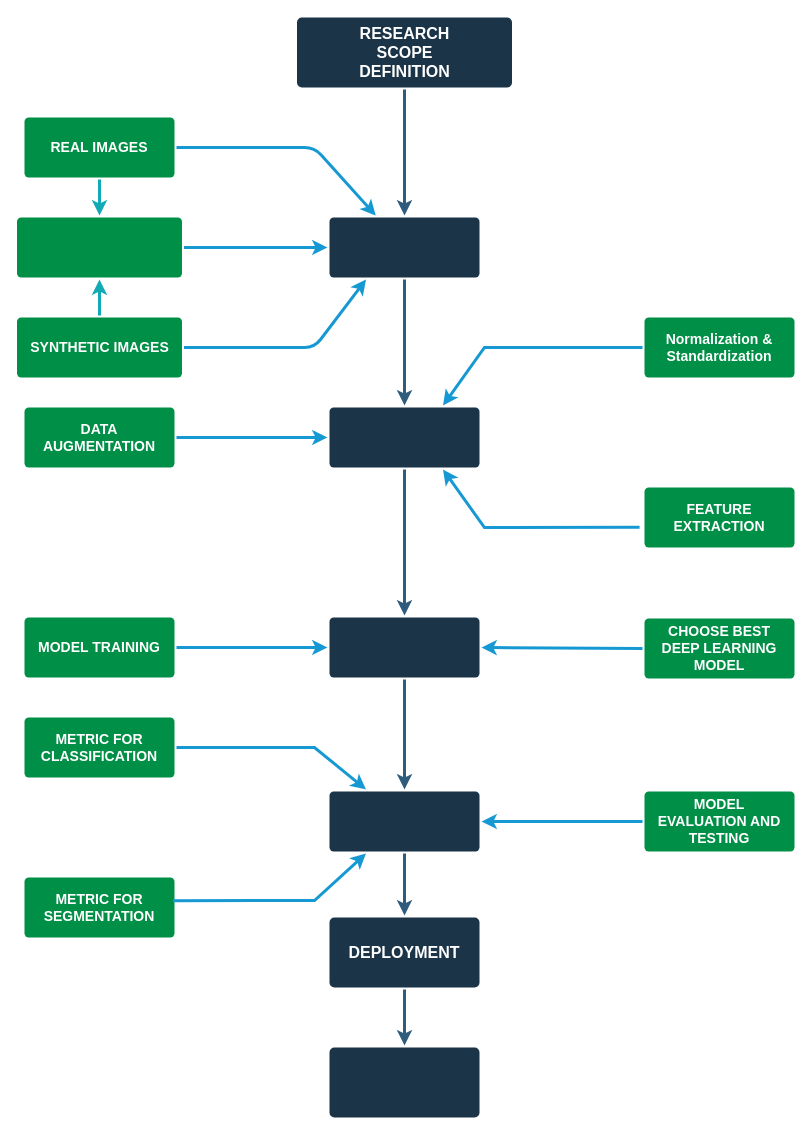
This 812x1134 diagram has some shape labels left out. Here are the shapes that lost their labels. From the top down, the centre of each, then its label:
At [99,247]: "GAN".
At [404,247]: "DATA COLLECTION".
At [404,437]: "DATA PREPROCESSING".
At [404,647]: "MODEL SELECTION AND TRAINING".
At [404,821]: "MODEL EVALUATION".
At [404,1082]: "CONCLUTION".
